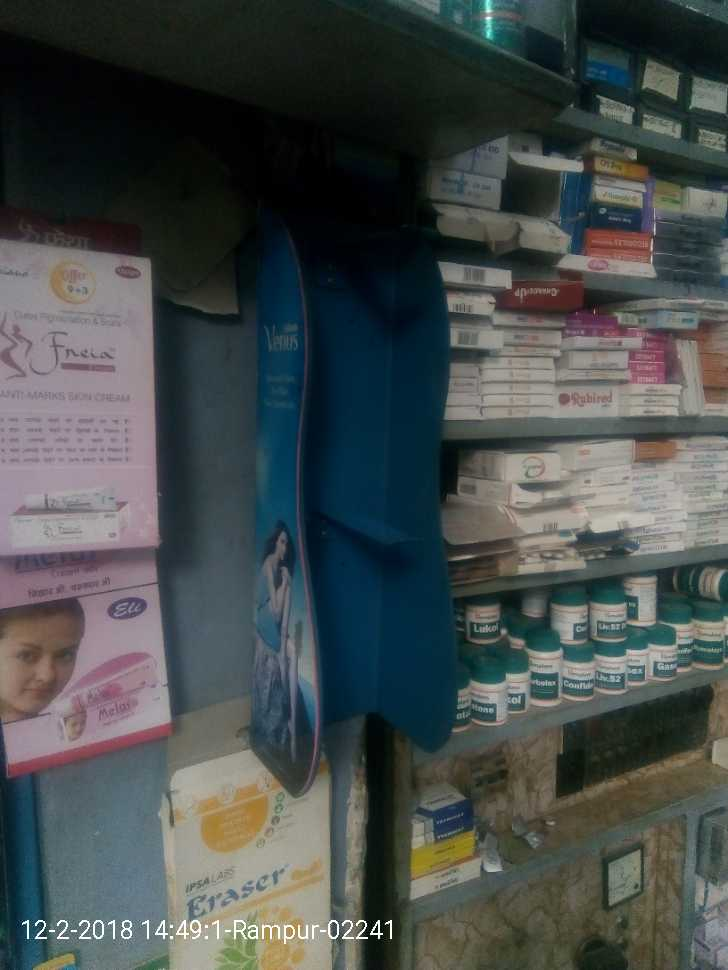reject: (242, 441, 338, 513)
